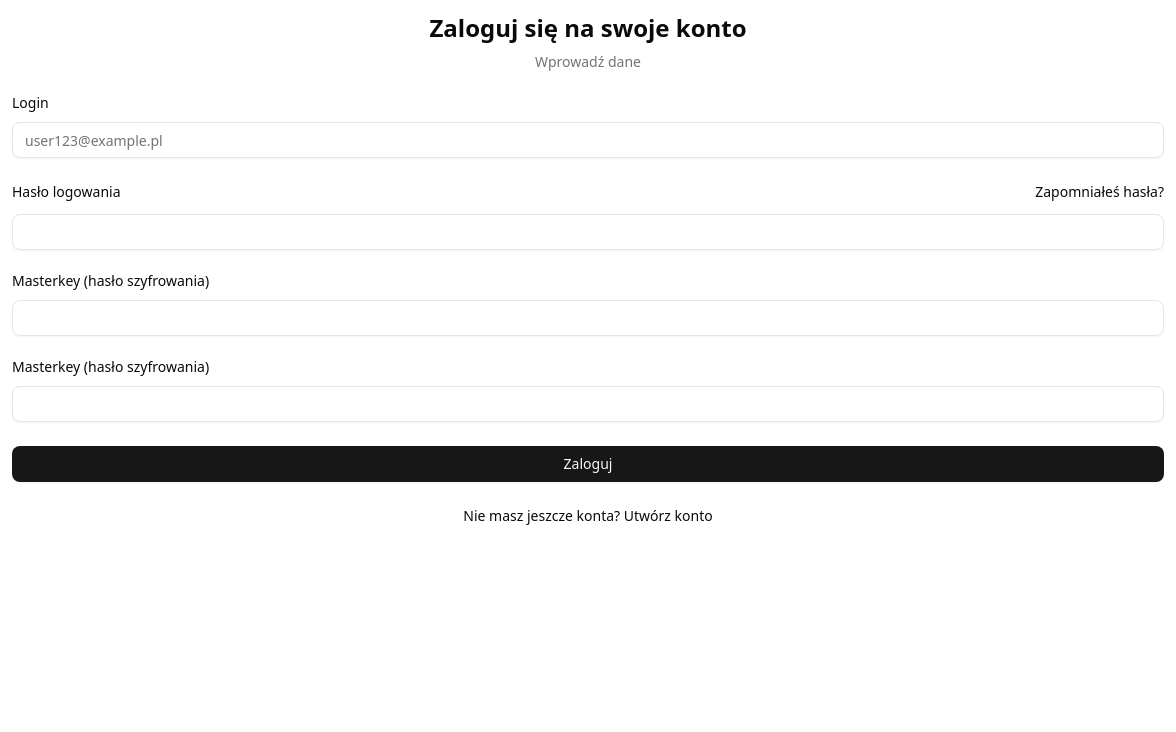
Test case: LoginForm › wyświetla błąd walidacji dla nieprawidłowego hasła
Type "test@example.com" into the field labelled "Login". click: [588, 140]
box: [12, 122, 1164, 158]
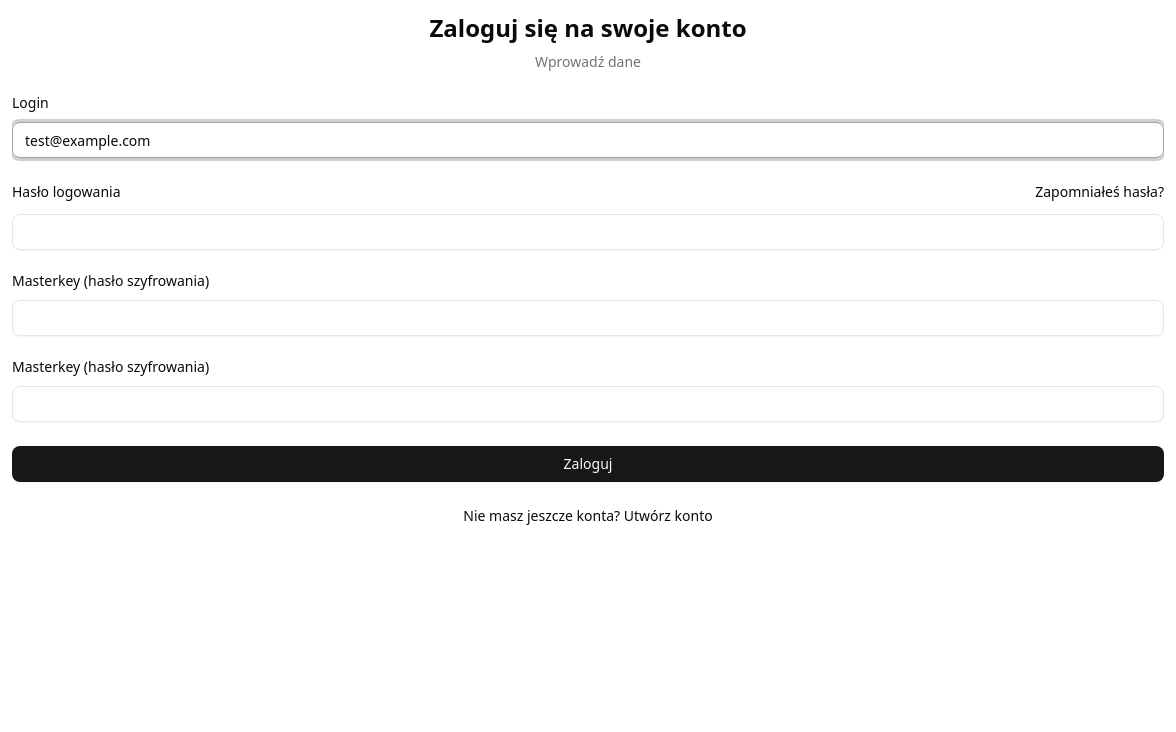
Type "short" into the password field labelled "Hasło logowania". click: [588, 232]
box: [12, 214, 1164, 250]
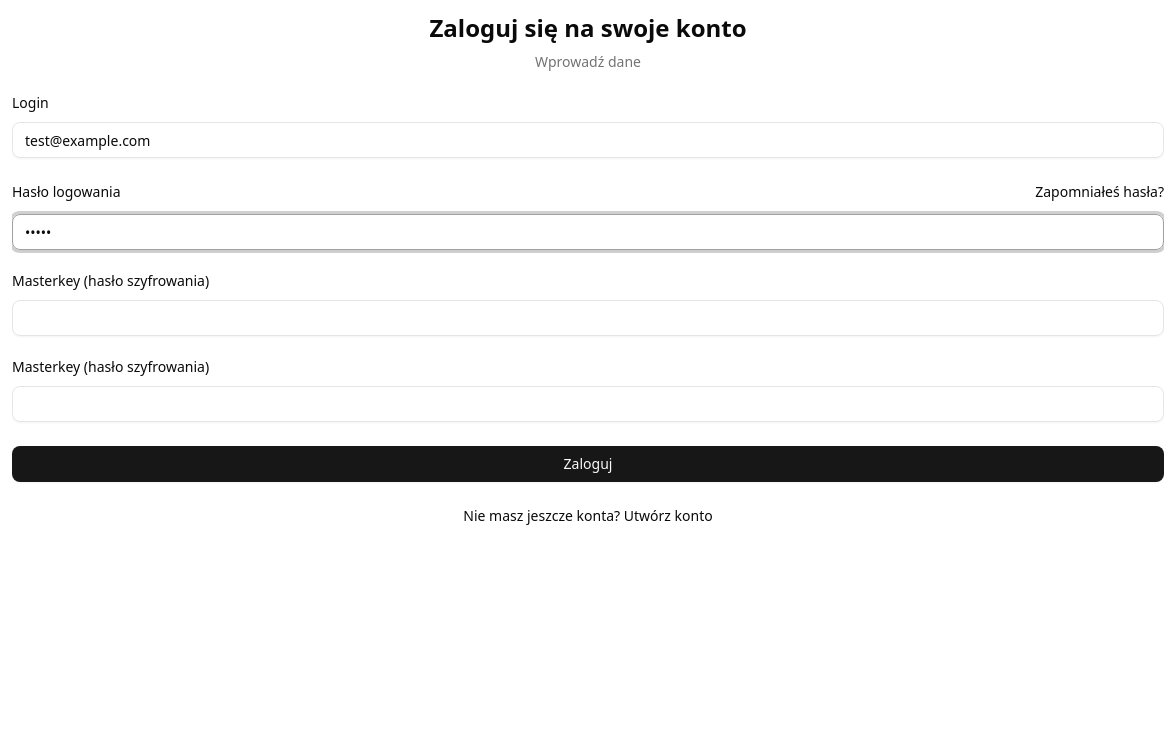
Click the button "Zaloguj". click: [588, 464]
box: [12, 446, 1164, 482]
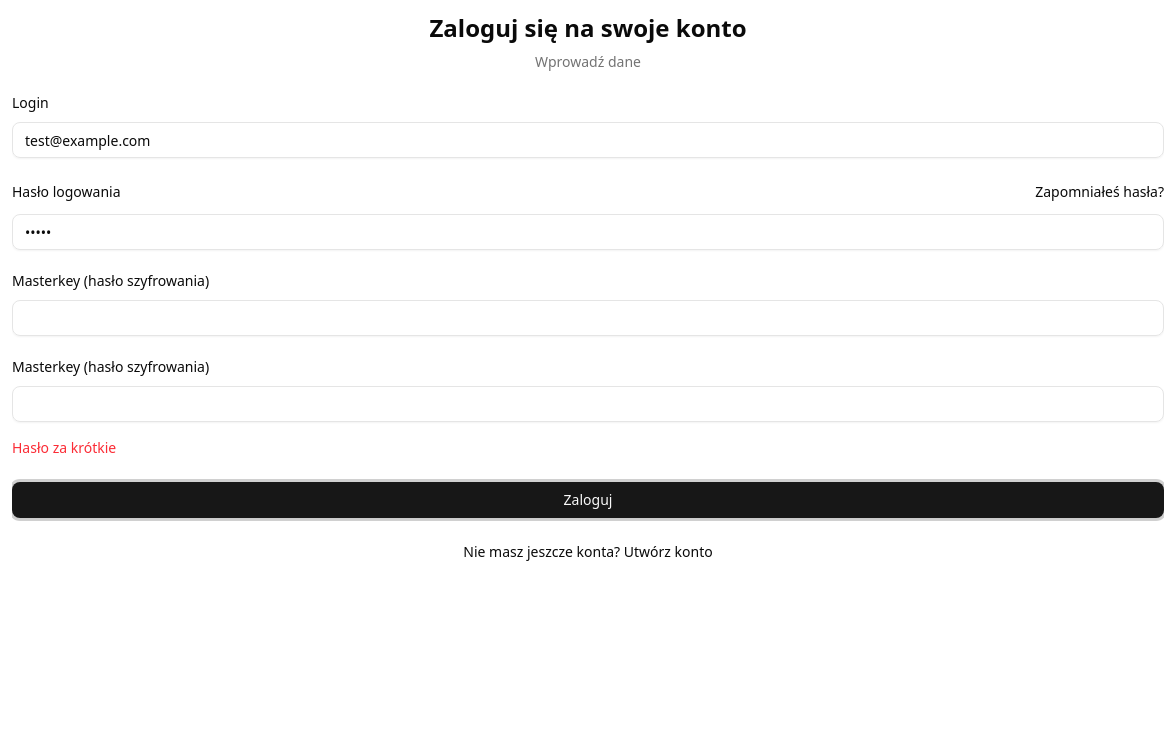
expect the text "Hasło za krótkie" is shown: met, box [12, 438, 116, 457]
